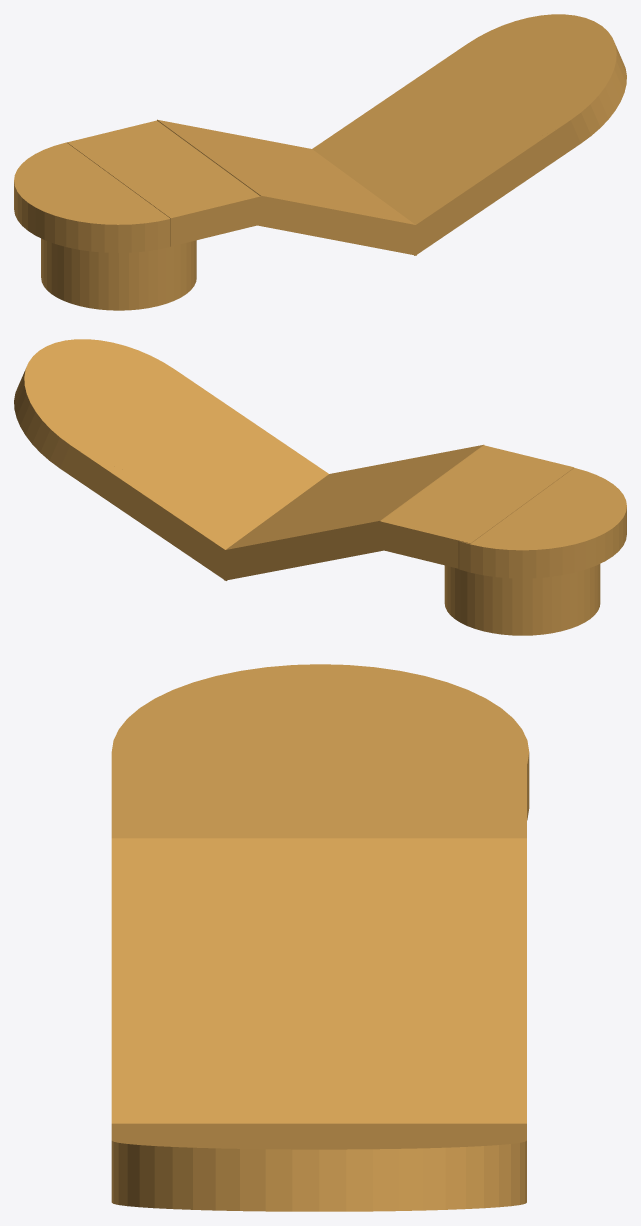
The model's file is shoe.glb.
3 renders of one model, top to bottom at view 1: azimuth 30°, elevation 25°; view 2: azimuth 150°, elevation 25°; view 3: azimuth 270°, elevation 25°, orthographic. The views are drawn at different scales.
Parts seen in each view (by area): view 1: Mesh_Mesh_head_geo.001_lambert2SG.001; view 2: Mesh_Mesh_head_geo.001_lambert2SG.001; view 3: Mesh_Mesh_head_geo.001_lambert2SG.001.
Boxes of the visible parts, left/top/right/bottom form: Mesh_Mesh_head_geo.001_lambert2SG.001: left=14, top=14, right=626, bottom=310; Mesh_Mesh_head_geo.001_lambert2SG.001: left=14, top=339, right=626, bottom=635; Mesh_Mesh_head_geo.001_lambert2SG.001: left=111, top=664, right=529, bottom=1211.
Bounding box in the file's own units: 0.0649 × 0.0143 × 0.0201.
